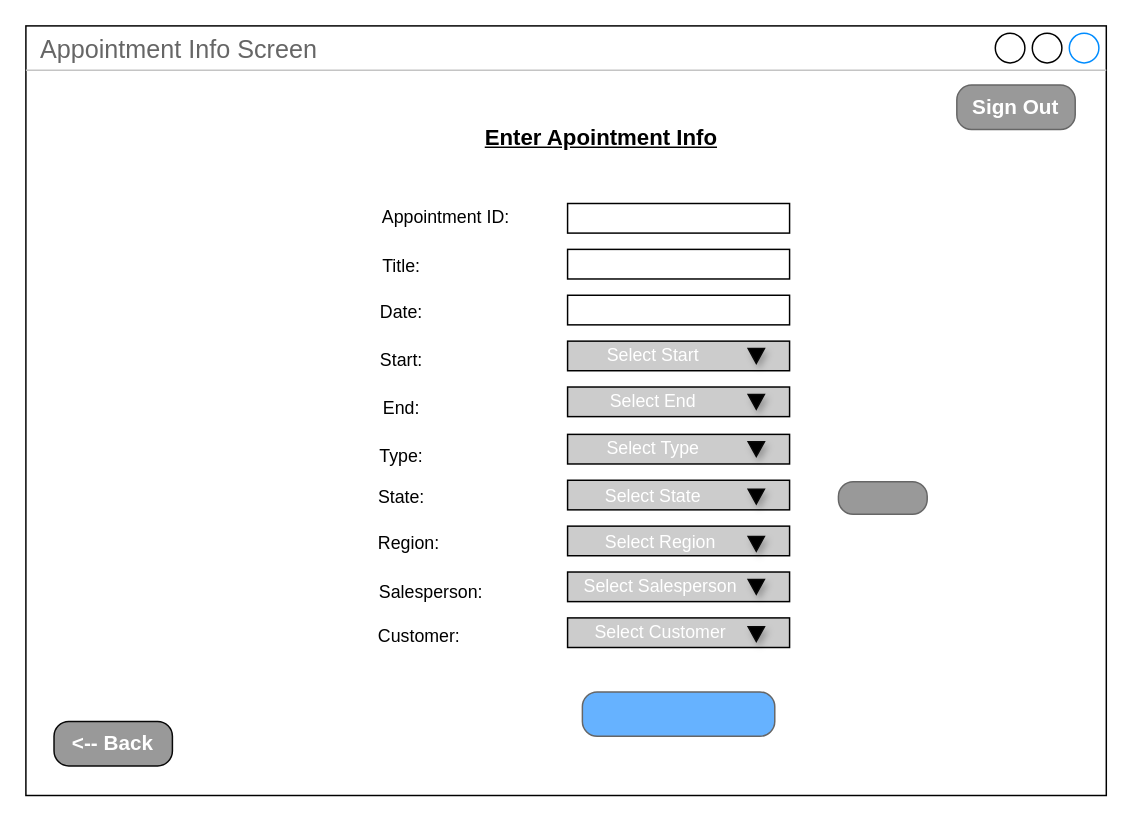
Image size: 1132x821. Some labels were removed from this diagram. Here are the shapes that lost their labels. From the top down, the centre of each, then its label:
point (882, 497): Reset
point (678, 713): Submit
